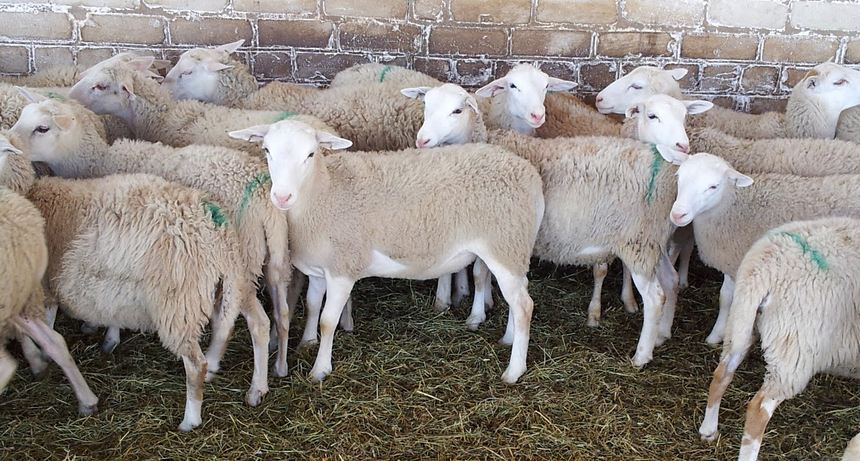sheep: (241, 115, 547, 404)
